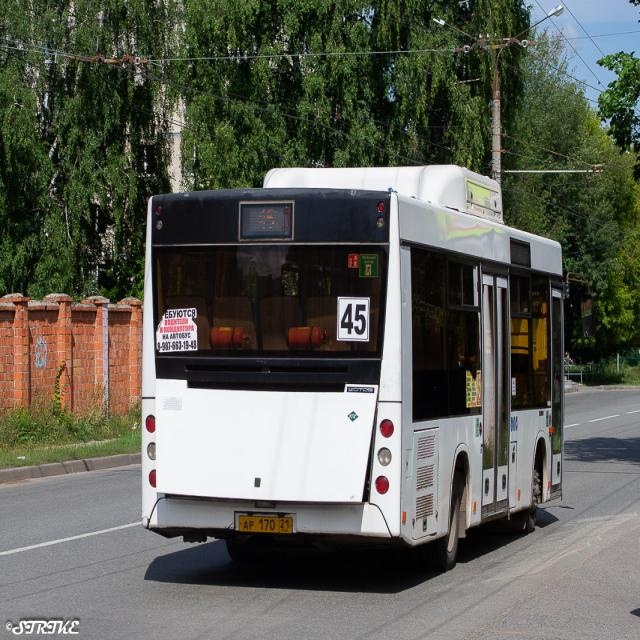number-of-bus: (341, 301, 372, 341)
